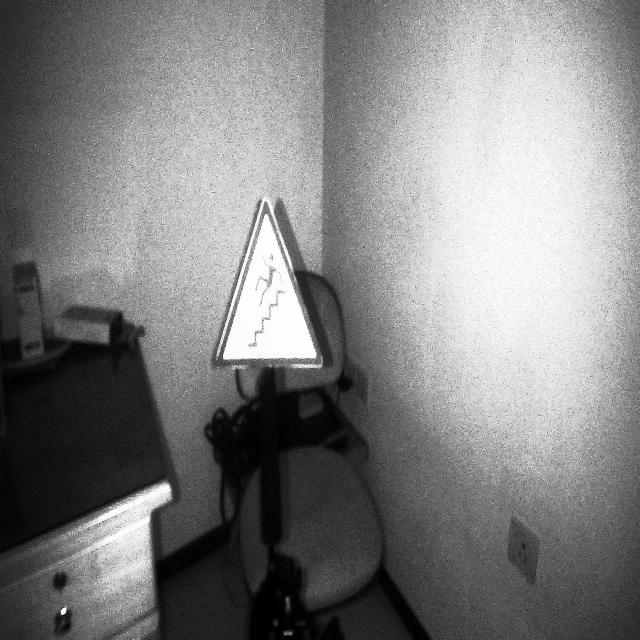Sign: (214, 193, 327, 373)
